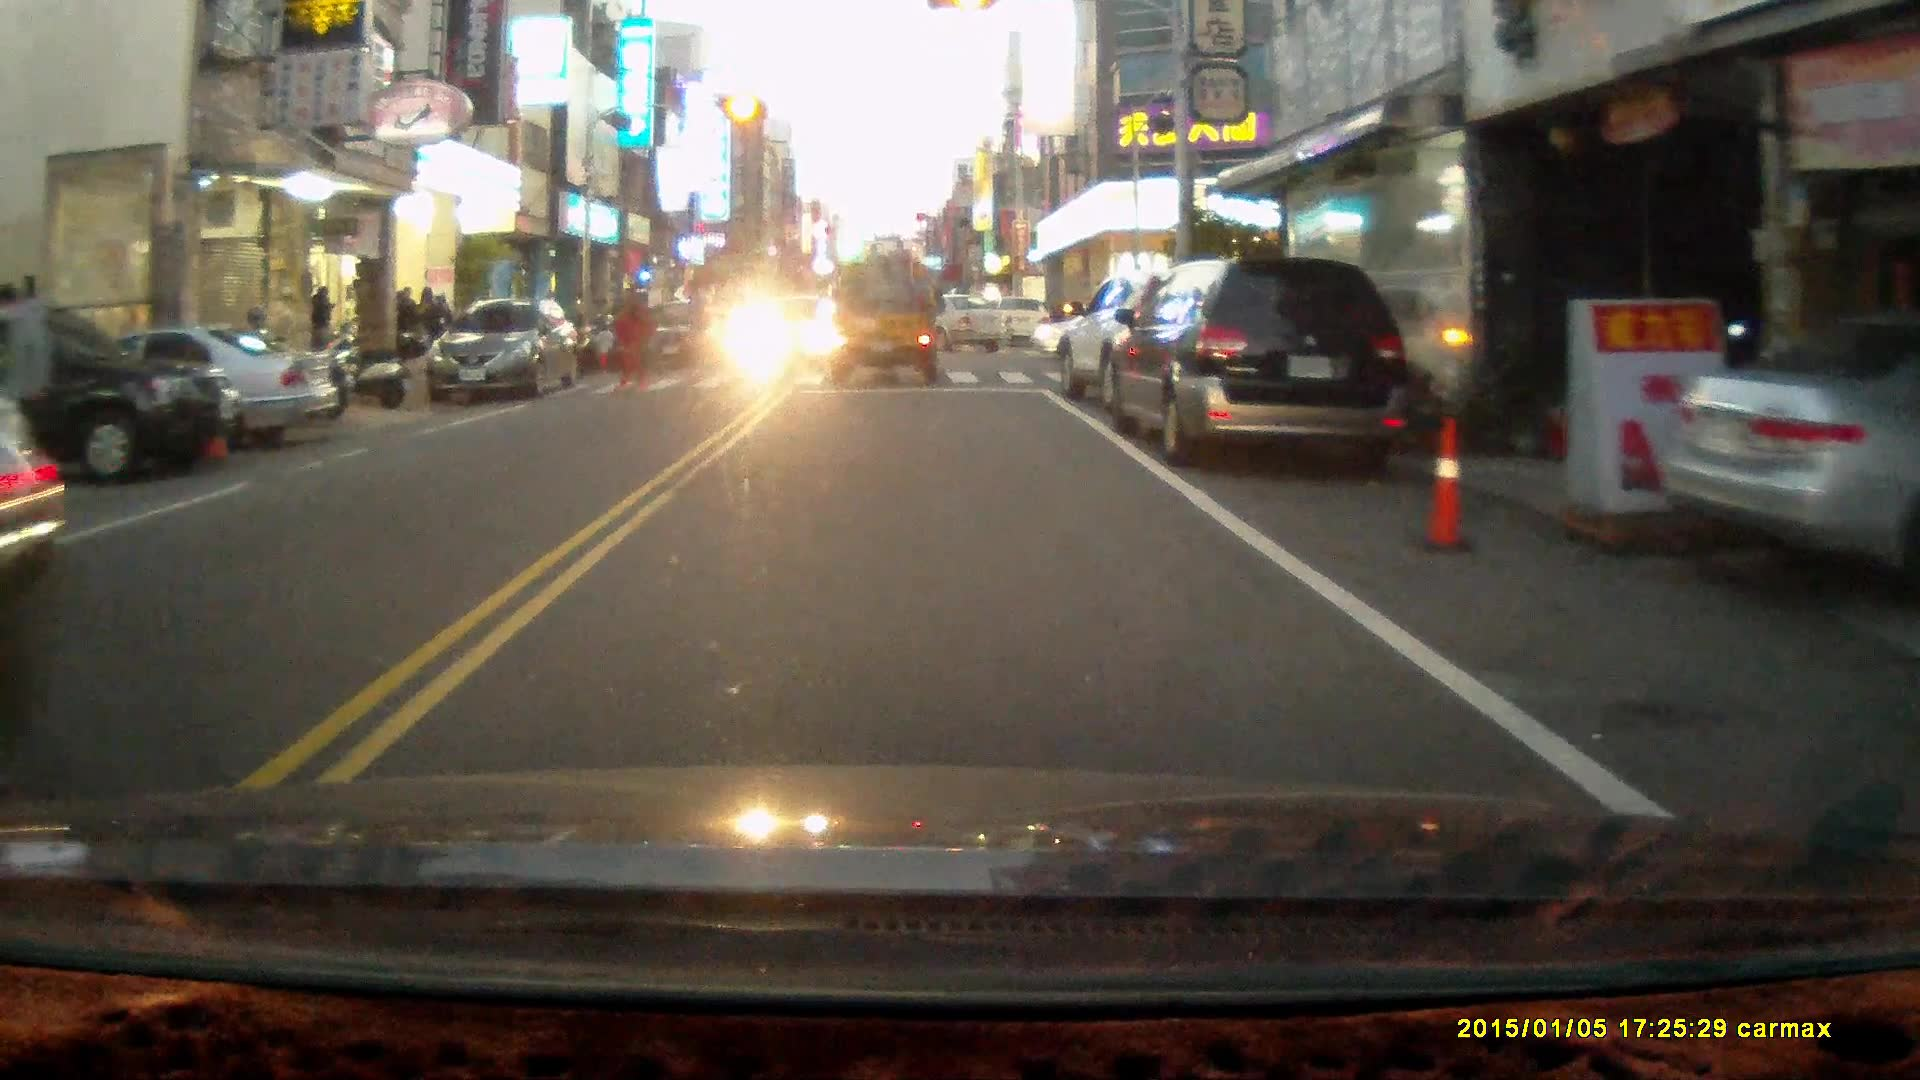pedestrian: (0, 280, 52, 482), (609, 283, 641, 389), (307, 282, 337, 366), (590, 319, 617, 375)
vehicle: (1100, 255, 1411, 468), (1664, 328, 1920, 555), (1, 297, 244, 484), (24, 327, 338, 449), (1057, 273, 1274, 423), (820, 236, 948, 388), (433, 301, 585, 404), (883, 296, 1016, 356), (633, 300, 728, 367)
